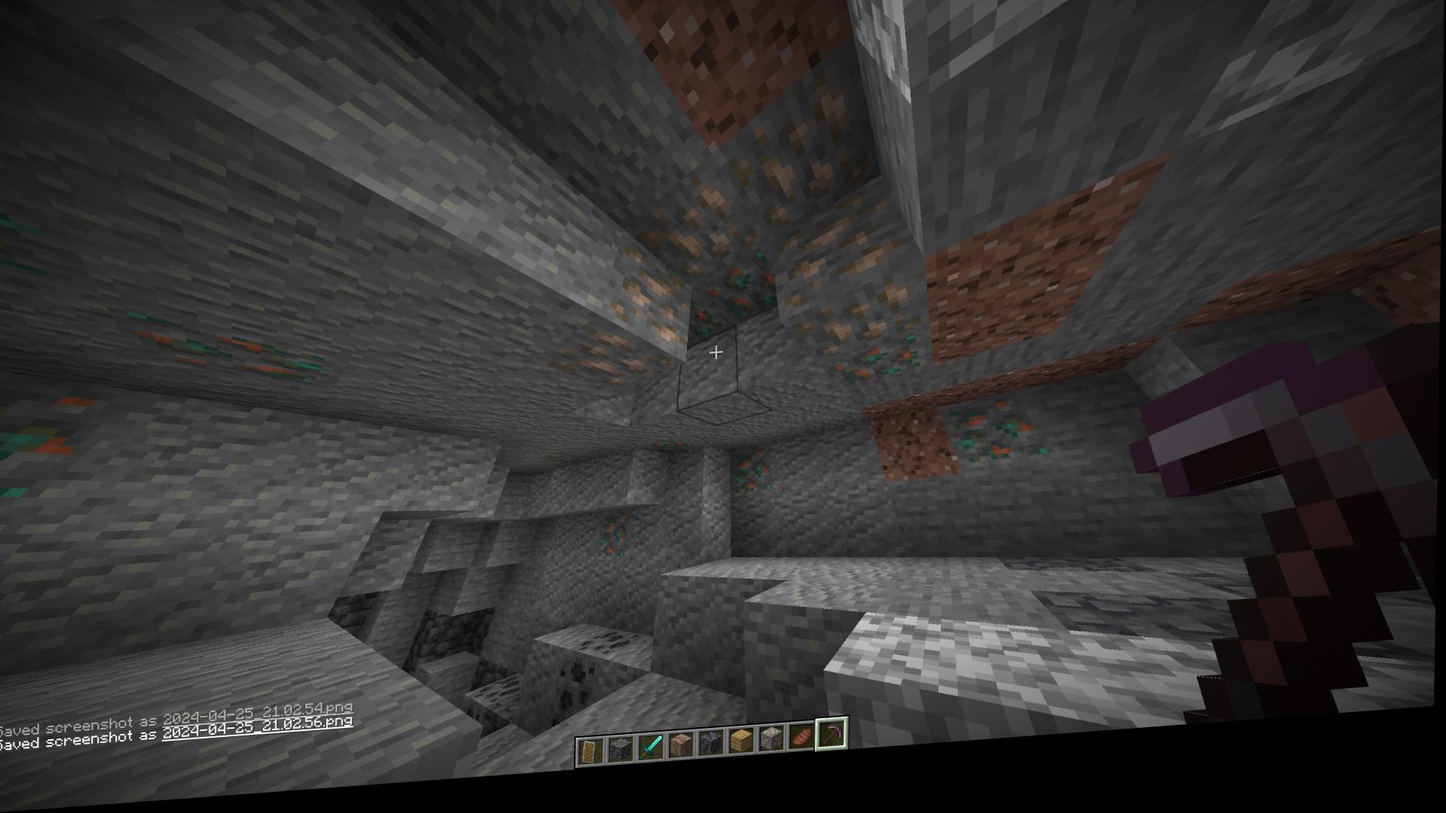iron ore: (732, 88, 875, 241), (642, 186, 763, 285), (780, 209, 900, 308), (800, 286, 927, 379), (605, 269, 695, 366), (568, 339, 661, 406)
